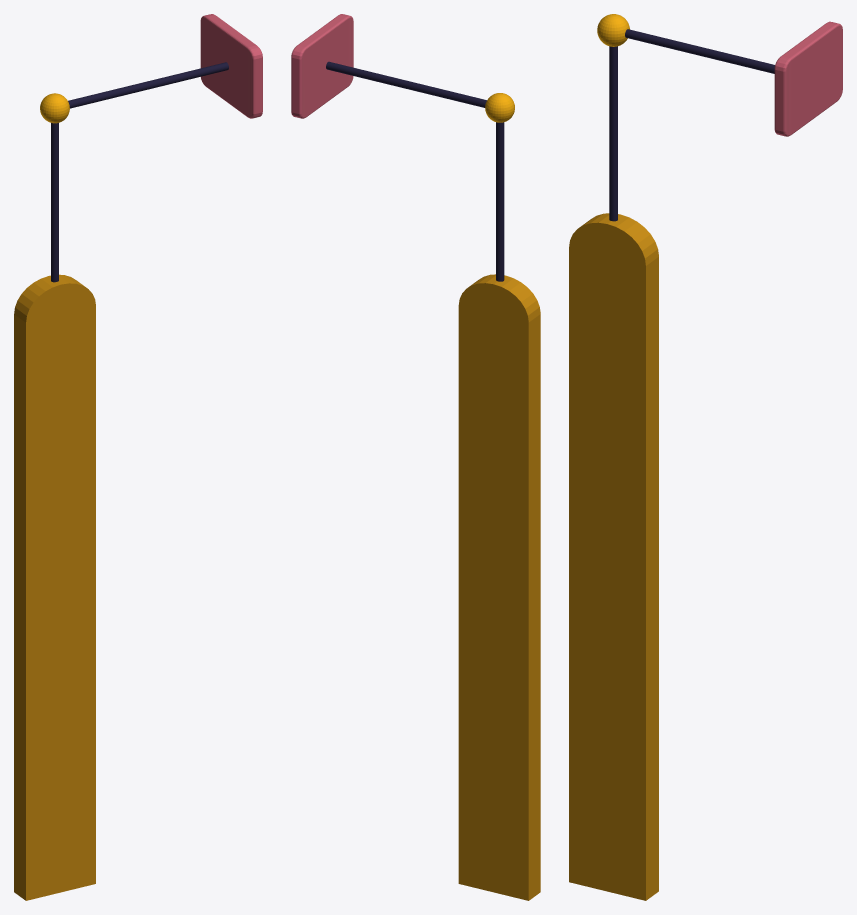
The model's file is vurma_engeli.fbx.
The picture shows the model from 3 angles, left to right: view 1: azimuth 30°, elevation 25°; view 2: azimuth 150°, elevation 25°; view 3: azimuth 330°, elevation 25°; orthographic projection. The views are drawn at different scales.
Visible parts, largest first — view 1: hit_barrier, hit_barrier.002; view 2: hit_barrier, hit_barrier.002; view 3: hit_barrier, hit_barrier.002.
Boxes of the visible parts, left/top/right/bottom form: hit_barrier: left=14, top=93, right=95, bottom=900; hit_barrier.002: left=68, top=14, right=262, bottom=118; hit_barrier: left=458, top=93, right=540, bottom=900; hit_barrier.002: left=291, top=14, right=486, bottom=118; hit_barrier: left=569, top=14, right=658, bottom=900; hit_barrier.002: left=625, top=21, right=842, bottom=136.
Size of the model in its own units: 1673 by 5989 by 714.
